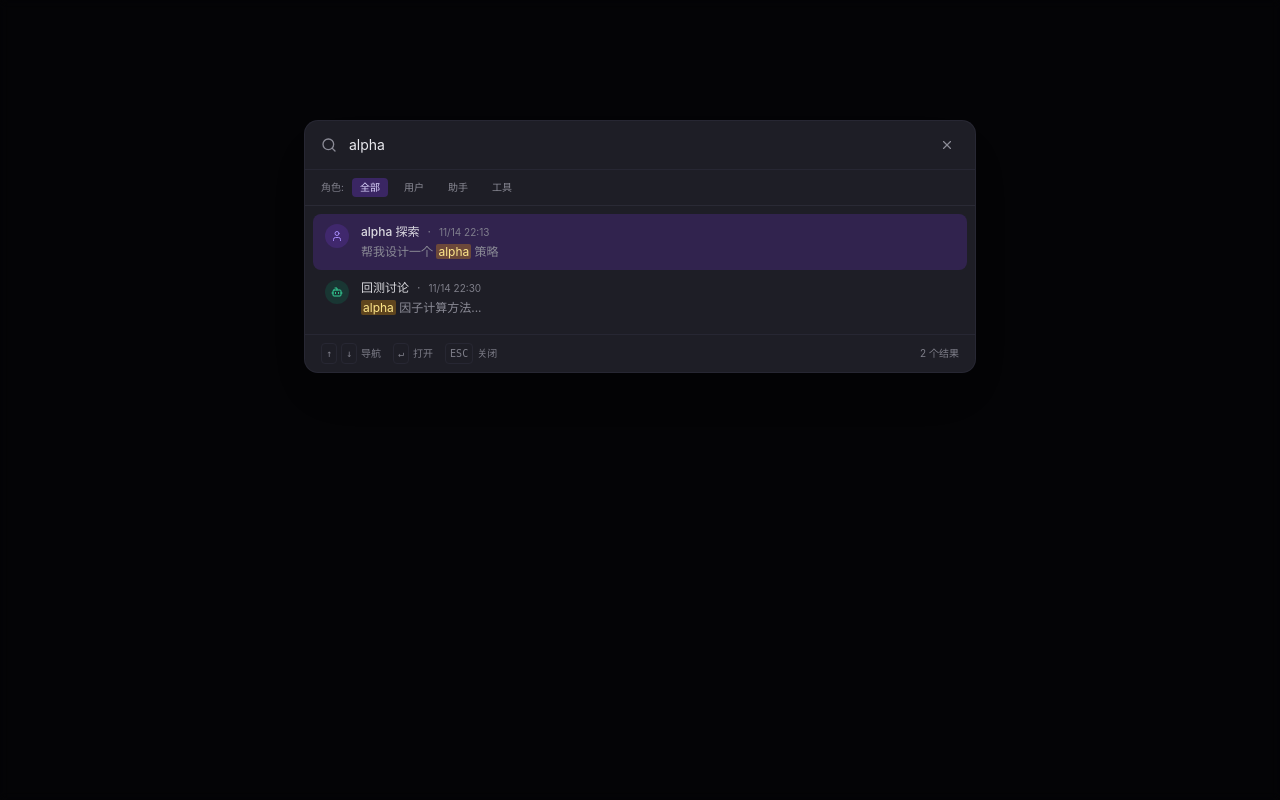
it: SearchModal › filters hits by role when a chip is clicked
Expected: the text "alpha 探索" is shown, [361,224,420,240]
Expected: the text "回测讨论" is shown, [361,280,409,296]
# Filter to user — only the user hit remains.
Click the button with test id "search-role-filter-user". click: [414, 188]
box: [396,178,432,197]
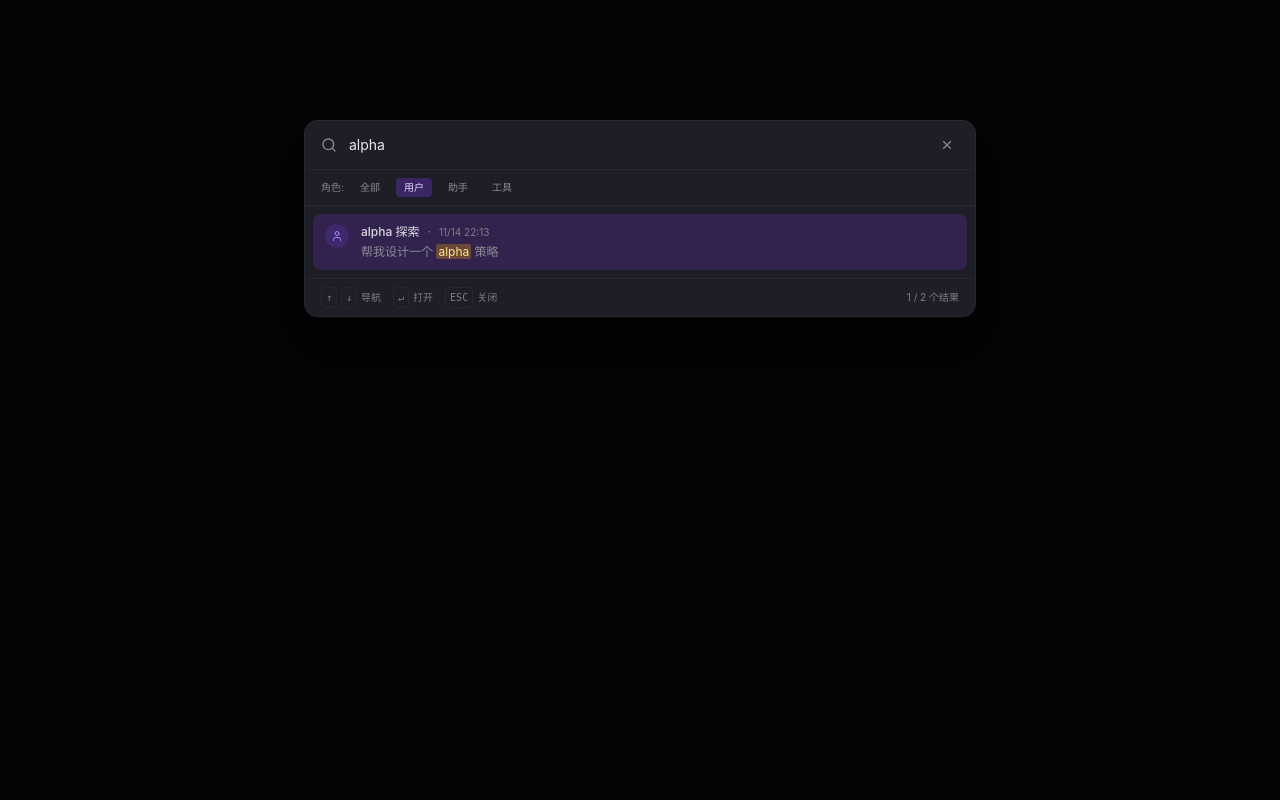
Expected: the text "alpha 探索" is shown, [361,224,420,240]
Expected: the button "回测讨论" is gone
